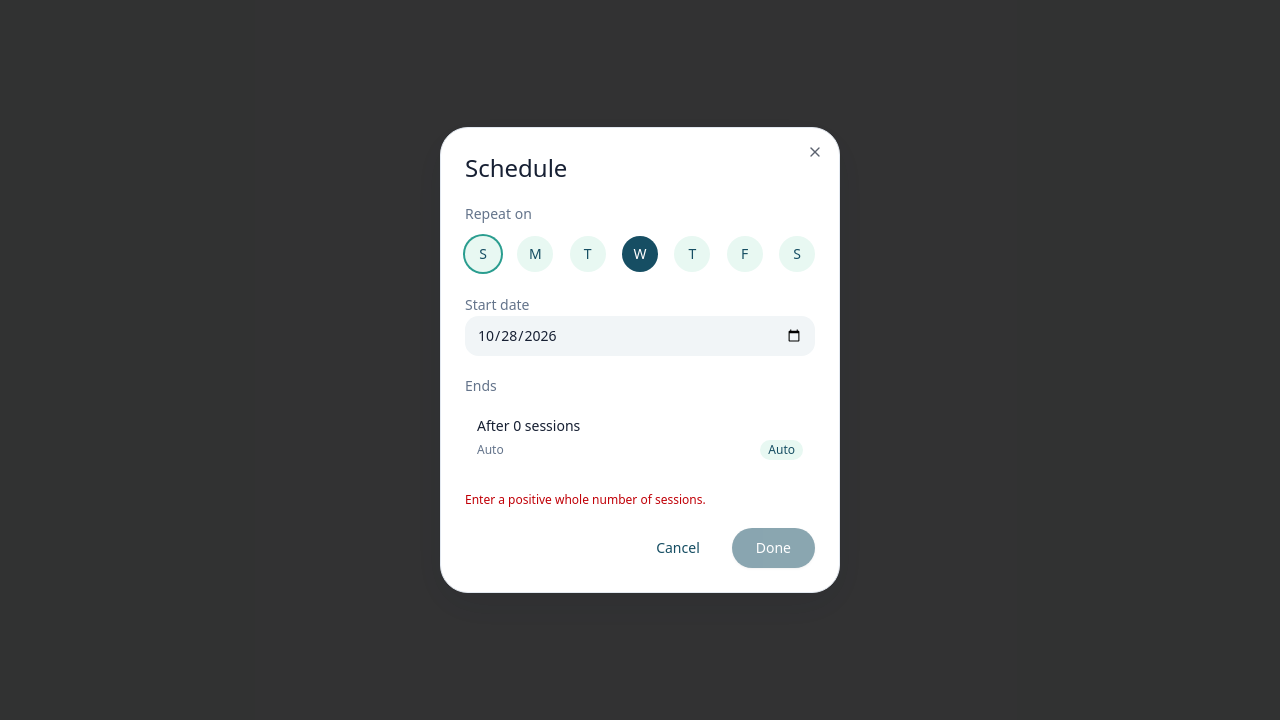
Scenario: Automatic class schedule dialog › requires at least one selected weekday and a positive session count
Click the button named "Wednesday" at (640, 254), box [622,236,658,272]
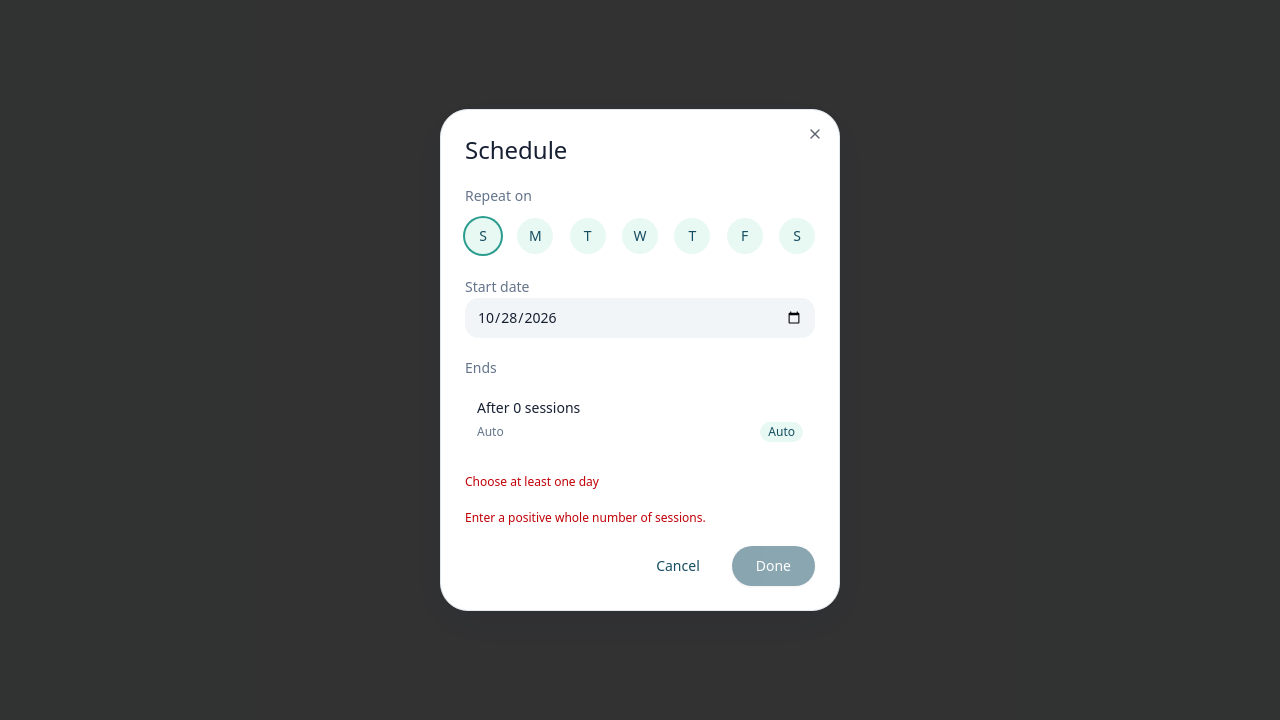
Expected: the message "Enter a positive whole number of sessions." is shown, [465,509,706,526]
Result: the message "Choose at least one day" is shown at [465,473,599,490]
